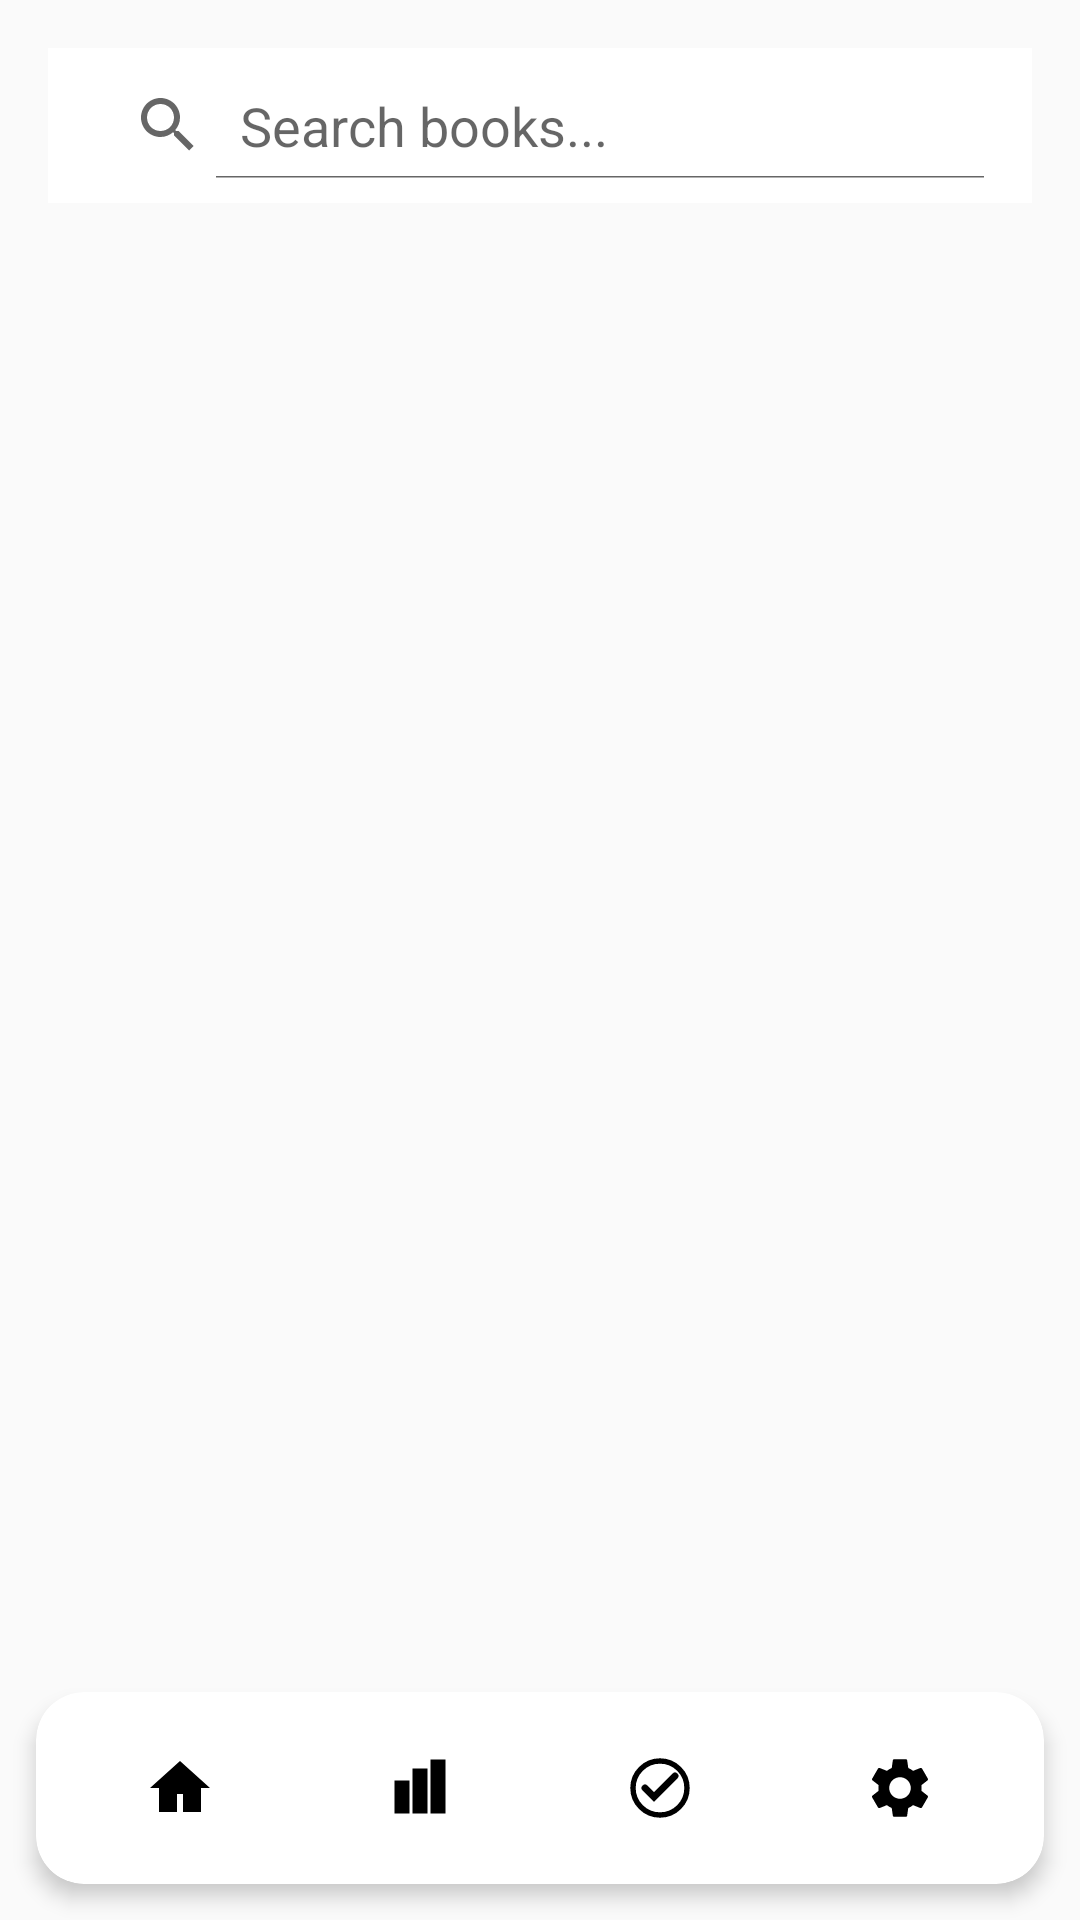

Named icons in this screenshot (1080w x 1920h) and their centers, point (x, y):
goal: point (660, 1788)
home: point (180, 1786)
settings: point (900, 1788)
Stats: point (420, 1786)
